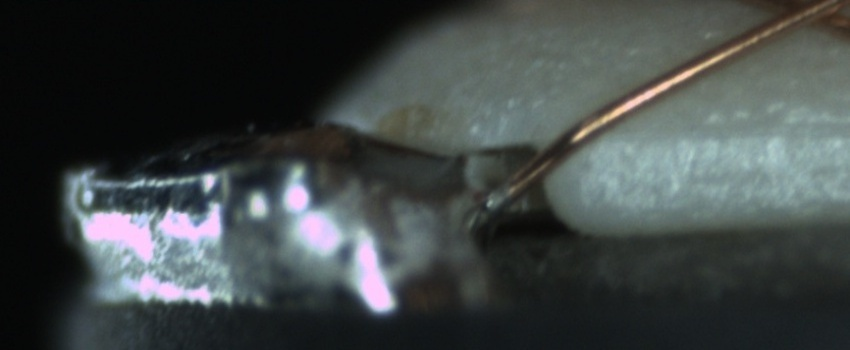CL: (745, 0, 850, 40)
DL: (619, 90, 847, 164)
